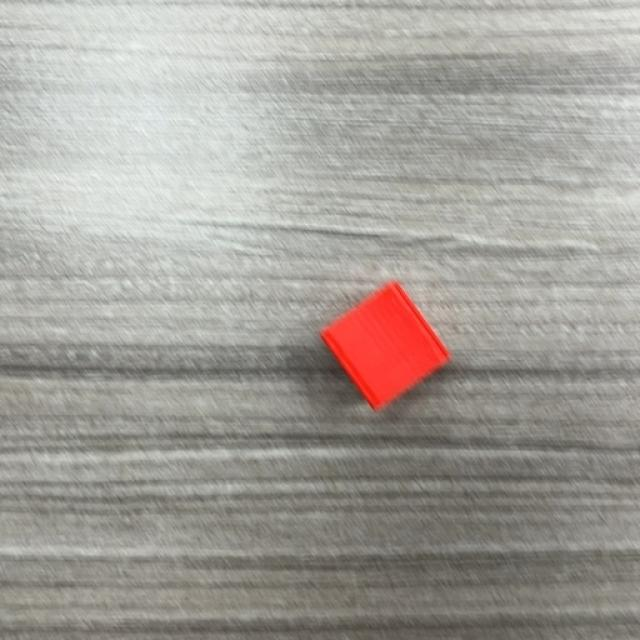Rojo: (320, 282, 451, 412)
